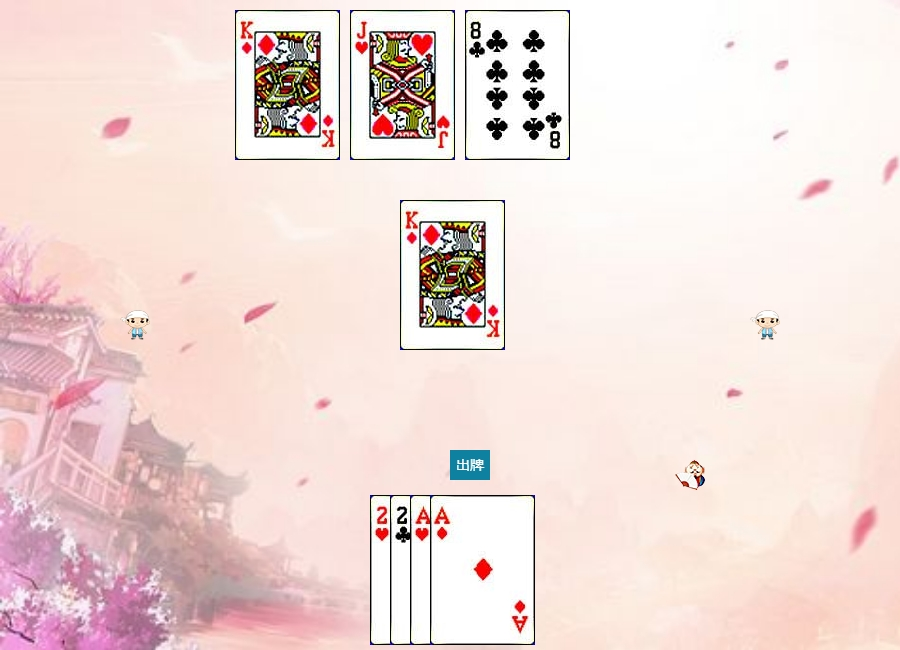11~3: (350, 10, 455, 160)
13~1: (235, 10, 340, 160), (400, 200, 505, 350)
14~1: (430, 495, 535, 645)
14~3: (410, 495, 515, 645)
15~2: (390, 495, 495, 645)
15~3: (370, 495, 475, 645)
8~2: (465, 10, 570, 160)
